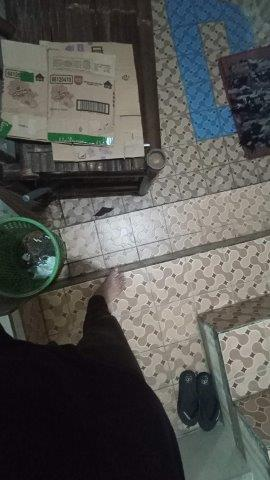kardus: (2, 41, 144, 159)
